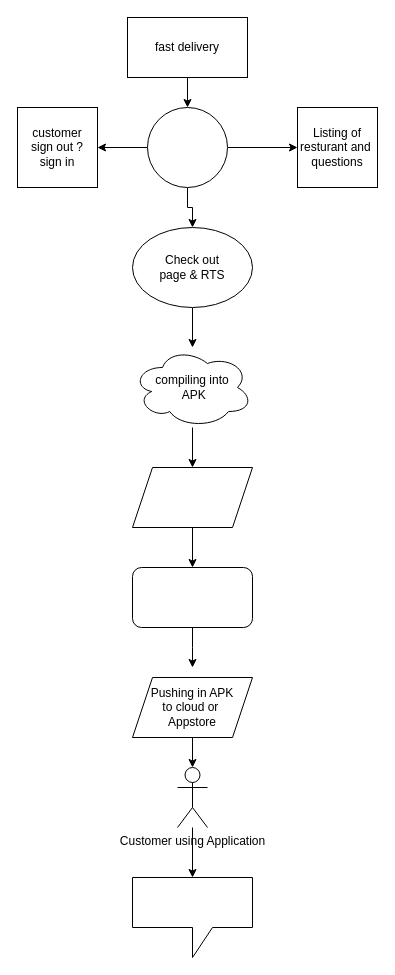
Some shapes in this 395 by 975 pixel diagram are drawn without their labels. The centre of each missing label's shape, as x and y in pixels:
design UI/UX: the point at 187,147
No bugs found: the point at 192,497
No feedback receving: the point at 192,917
Writing permission for deployment: the point at 192,597
